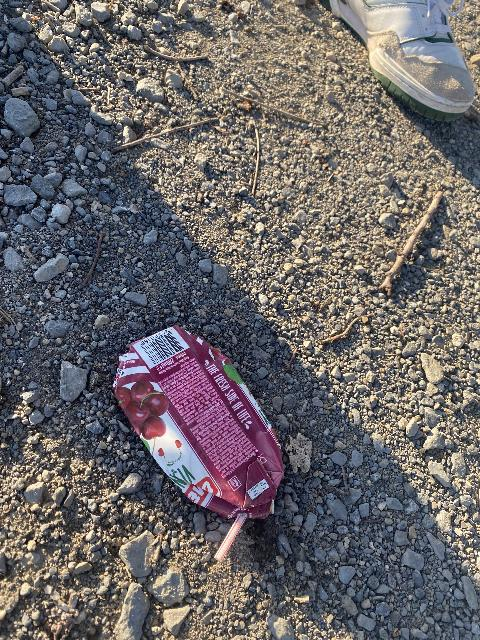Kagit: (89, 325, 302, 519)
Organik: (378, 186, 452, 303), (214, 89, 333, 121), (100, 122, 230, 151), (244, 117, 275, 202), (79, 225, 113, 295), (324, 306, 360, 359), (144, 38, 213, 65)
Plastik: (206, 517, 263, 587)
